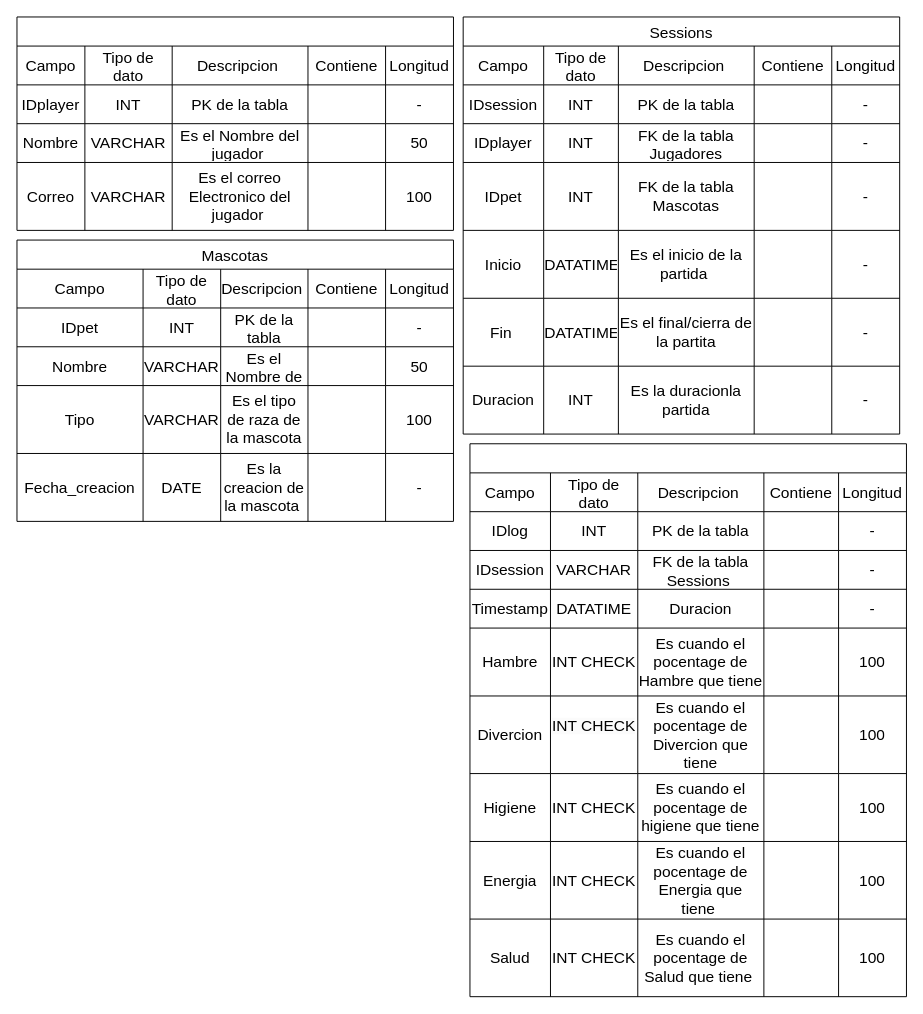
The diagram is 923 pixels wide and 1014 high, and some of its shapes have lost their labels. Each missing label, with the box of its shape:
Jugadores: (16, 16, 453, 230)
PetStateLongs: (469, 443, 906, 997)
